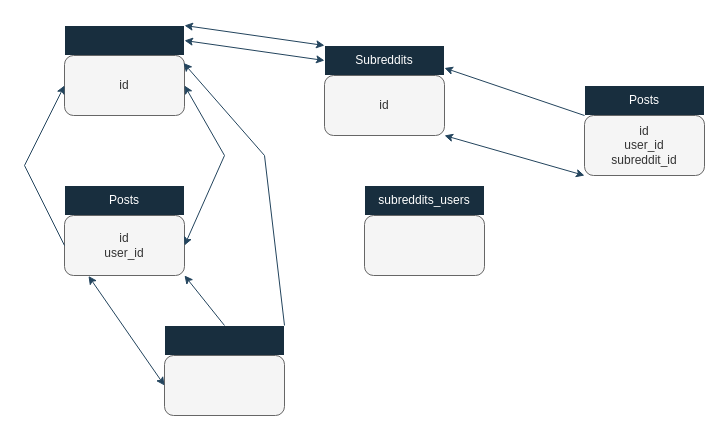
Some shapes in this 722 by 433 pixel diagram are drawn without their labels. The centre of each missing label's shape, as x and y in pixels:
"Comments" belongs at point (224, 340).
"id post_id user_id" belongs at point (224, 385).
"user_id subreddit_id" belongs at point (424, 245).
"Users" belongs at point (124, 40).
